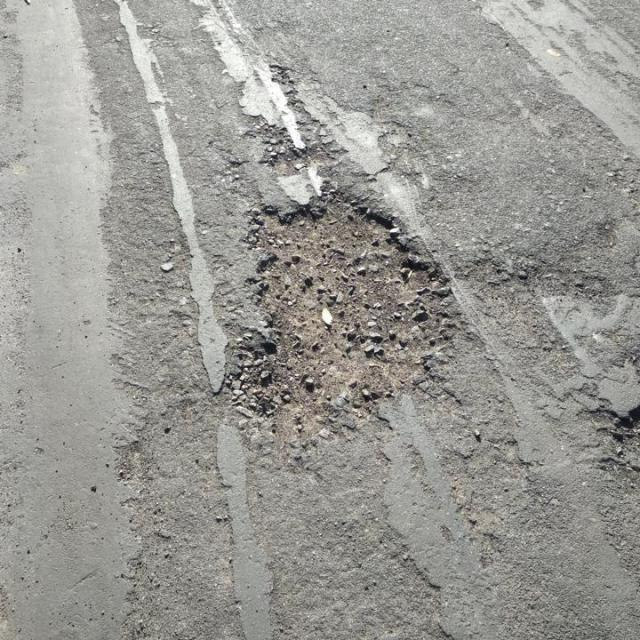buraco: (223, 186, 460, 446), (231, 193, 455, 444)
